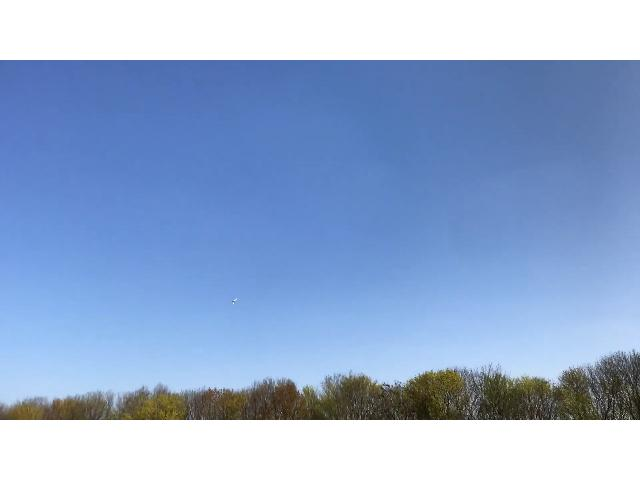Anti-Drone: (225, 294, 257, 314)
